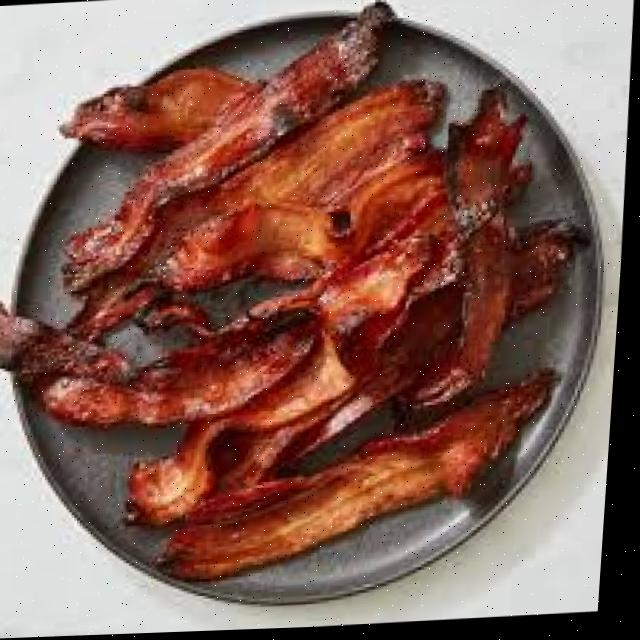Bacon: (68, 6, 391, 290), (172, 377, 556, 581), (161, 87, 445, 243), (142, 336, 357, 524), (404, 91, 528, 407), (162, 156, 448, 291), (40, 322, 322, 426), (62, 70, 261, 150), (0, 306, 133, 382)
